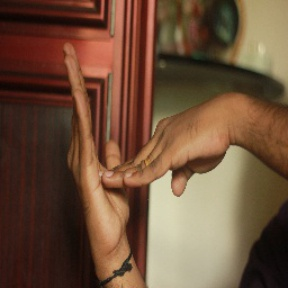Z: (48, 33, 233, 253)
